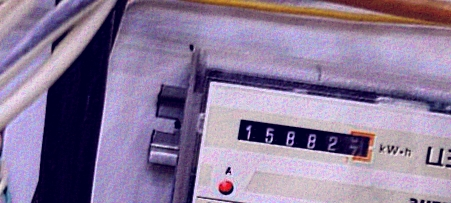1: (243, 124, 254, 141)
2: (326, 134, 338, 152)
5: (264, 126, 276, 144)
7: (348, 144, 358, 156)
8: (284, 130, 296, 148), (305, 132, 317, 150)
screen: (229, 110, 381, 169)
